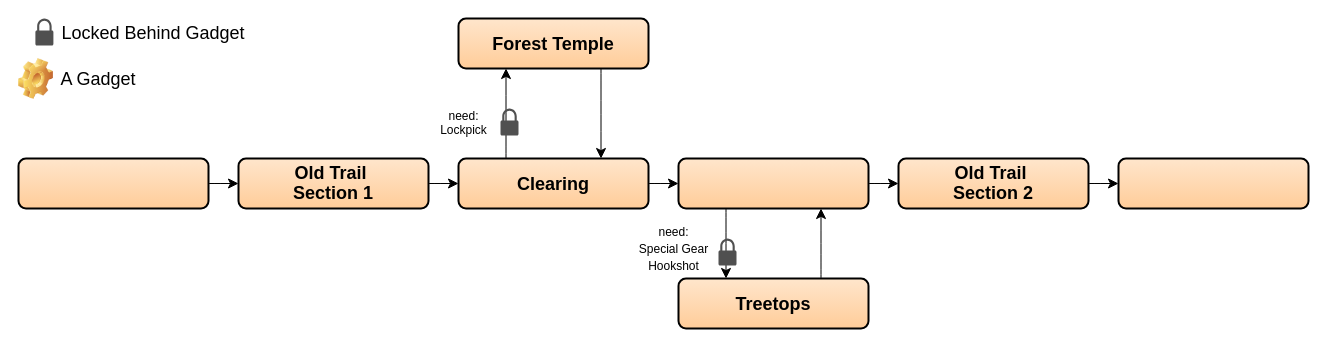
Image size: 1326x346. Some labels were removed from this diagram. Here are the shapes that lost their labels. From the top down, the centre of each, then its label:
the point at 113,183: Start
the point at 773,183: Big Tree Treetop Zone Start
the point at 1213,183: Boss (Nogo Forest End)
